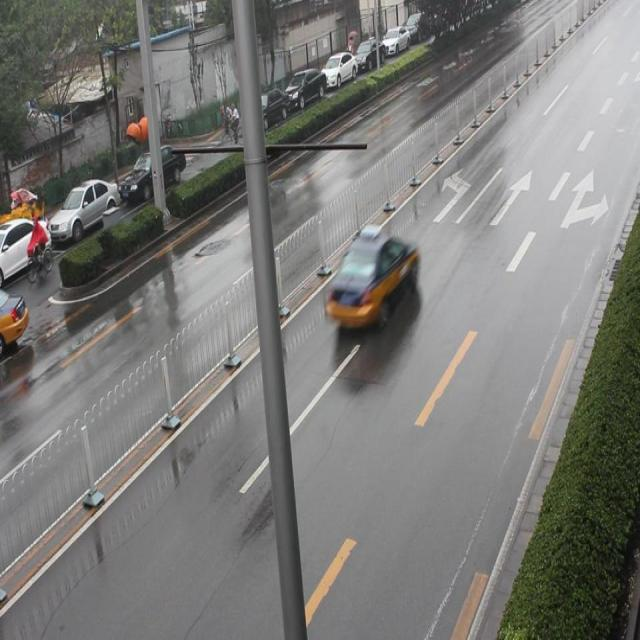car: (328, 218, 419, 326), (1, 282, 32, 358)
